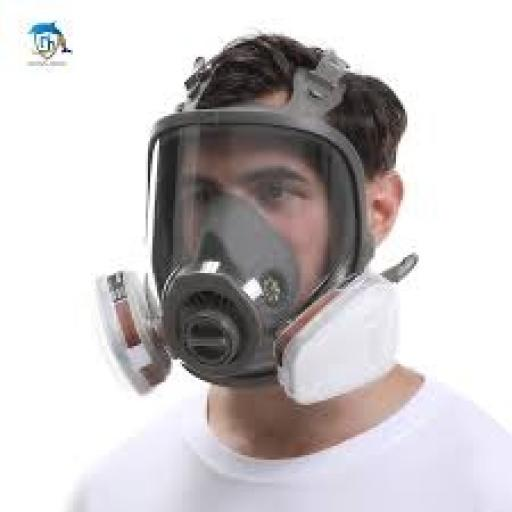mask: (84, 102, 435, 404)
